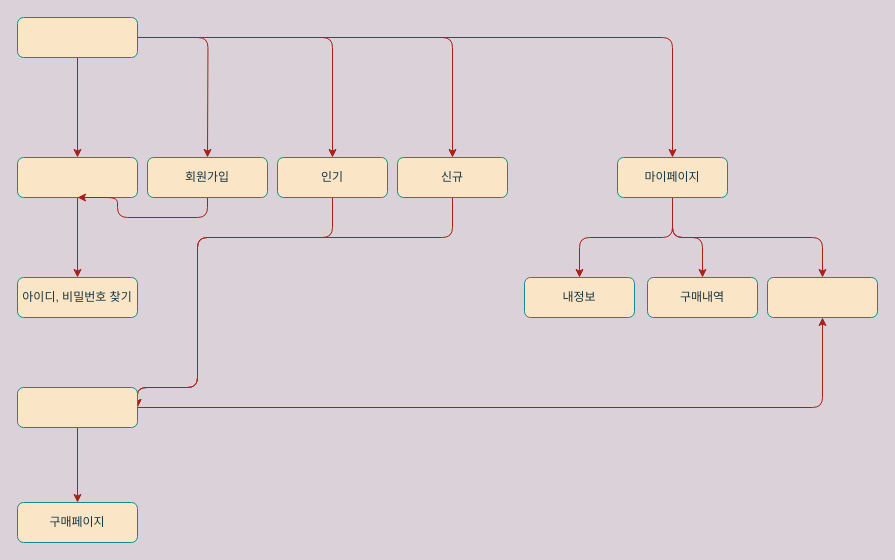
Some shapes in this 895 by 560 pixel diagram are drawn without their labels. The shapes that lost their labels are listed below. From the top down, each one's centre as x and y in pixels, then its label:
At [77,37]: "메인페이지".
At [77,177]: "로그인".
At [822,297]: "장바구니".
At [77,407]: "상품 세부 페이지".
